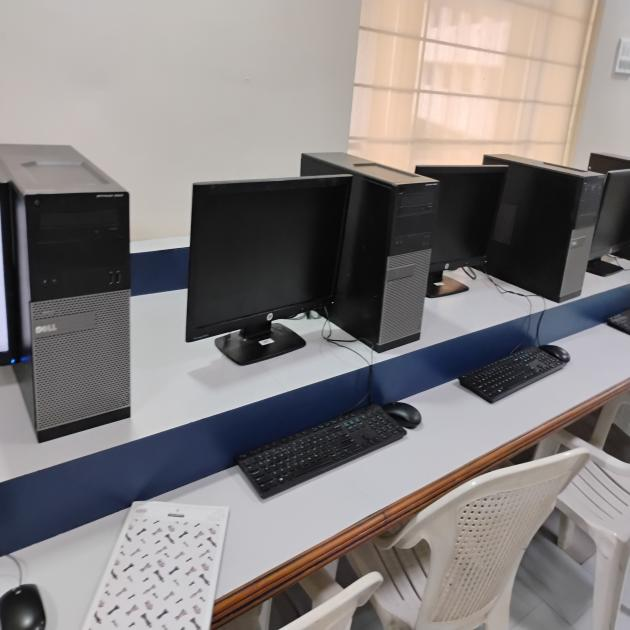computer: (180, 163, 358, 372), (426, 157, 513, 304)
cpu: (2, 128, 150, 508), (522, 146, 595, 298)
keyboard: (233, 385, 417, 513), (444, 330, 570, 413)
windowscreen: (350, 3, 603, 160)
